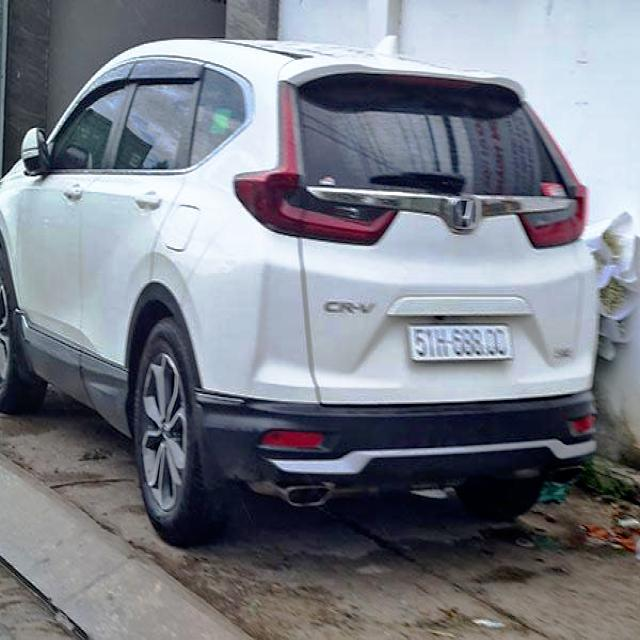license_plate: (411, 325, 516, 363)
